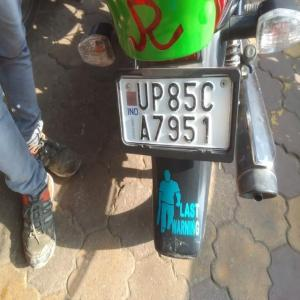Plate: (116, 71, 239, 159)
